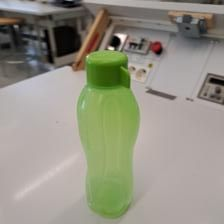bottle: (76, 44, 142, 216)
